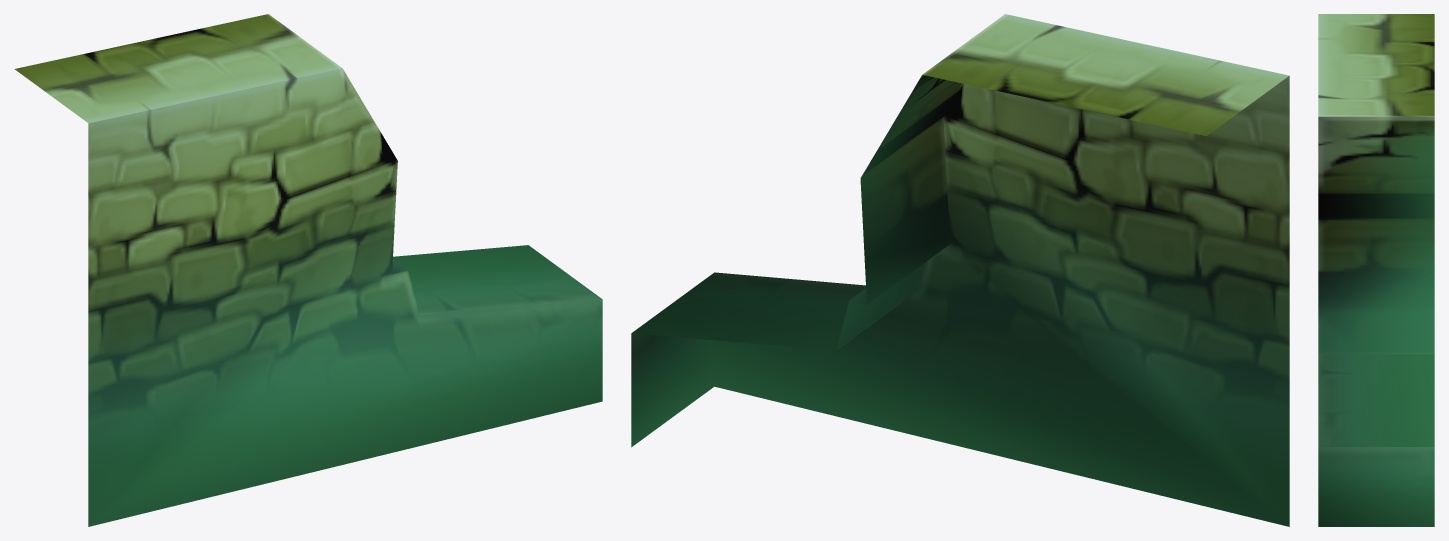
3 renders of one model, left to right at view 1: azimuth 30°, elevation 25°; view 2: azimuth 150°, elevation 25°; view 3: azimuth 270°, elevation 25°, orthographic. The views are drawn at different scales.
Parts seen in each view (by area): view 1: Object002; view 2: Object002; view 3: Object002.
Boxes of the visible parts, x1,y1,x2,y2 form: Object002: (14, 14, 602, 526); Object002: (631, 14, 1289, 526); Object002: (1318, 14, 1434, 526).
Bounding box in the file's own units: 400 × 100 × 300.
